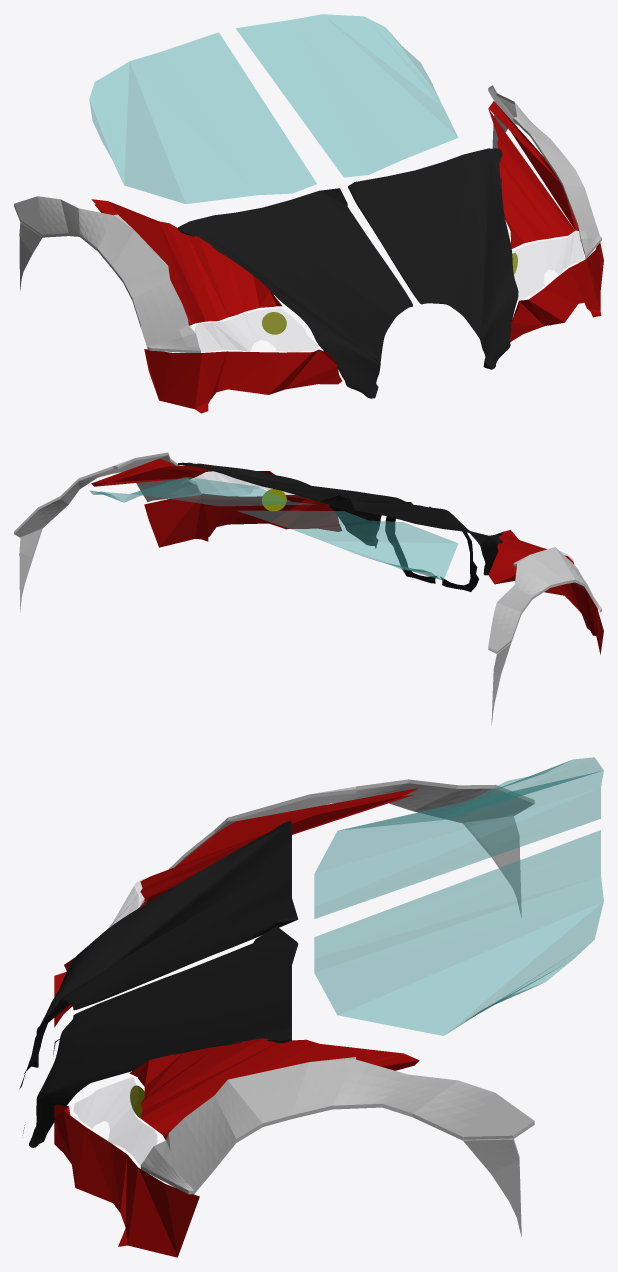
The model's file is 2Bugatti.obj.
3 views of the same model, one above another, from view 1: azimuth 30°, elevation 25°; view 2: azimuth 150°, elevation 25°; view 3: azimuth 270°, elevation 25° (orthographic). The views are drawn at different scales.
Parts seen in each view (by area): view 1: Seitendings2_Plane.001, Haube_Plane.005, Plane.001_Plane.008, Seitending1_Plane.006, Plane_Plane.007, Lampenabdek_Plane.003, Lampen_Plane.004; view 2: Seitendings2_Plane.001, Seitending1_Plane.006, Plane_Plane.007, Haube_Plane.005, Plane.001_Plane.008, Kühlerdings_Plane.002, Lampen_Plane.004, Lampenabdek_Plane.003; view 3: Seitendings2_Plane.001, Haube_Plane.005, Seitending1_Plane.006, Plane.001_Plane.008, Plane_Plane.007, Lampenabdek_Plane.003.
Boxes of the visible parts, x1=… form: Seitendings2_Plane.001: x1=89, y1=14, x2=458, y2=203; Haube_Plane.005: x1=177, y1=148, x2=518, y2=398; Plane.001_Plane.008: x1=91, y1=101, x2=578, y2=325; Seitending1_Plane.006: x1=14, y1=85, x2=601, y2=352; Plane_Plane.007: x1=144, y1=243, x2=603, y2=413; Lampenabdek_Plane.003: x1=195, y1=232, x2=584, y2=351; Lampen_Plane.004: x1=262, y1=253, x2=517, y2=334; Seitendings2_Plane.001: x1=90, y1=477, x2=458, y2=580; Seitending1_Plane.006: x1=14, y1=452, x2=601, y2=725; Plane_Plane.007: x1=144, y1=494, x2=603, y2=654; Haube_Plane.005: x1=177, y1=462, x2=504, y2=575; Plane.001_Plane.008: x1=91, y1=458, x2=574, y2=584; Kühlerdings_Plane.002: x1=385, y1=502, x2=478, y2=591; Lampen_Plane.004: x1=262, y1=489, x2=286, y2=511; Lampenabdek_Plane.003: x1=196, y1=471, x2=583, y2=588; Seitendings2_Plane.001: x1=314, y1=757, x2=603, y2=1035; Haube_Plane.005: x1=29, y1=820, x2=298, y2=1147; Seitending1_Plane.006: x1=140, y1=779, x2=534, y2=1236; Plane.001_Plane.008: x1=129, y1=788, x2=419, y2=1139; Plane_Plane.007: x1=54, y1=908, x2=199, y2=1257; Lampenabdek_Plane.003: x1=73, y1=879, x2=156, y2=1165.
Bounding box in the file's own units: 2.99 × 1.39 × 2.31.
